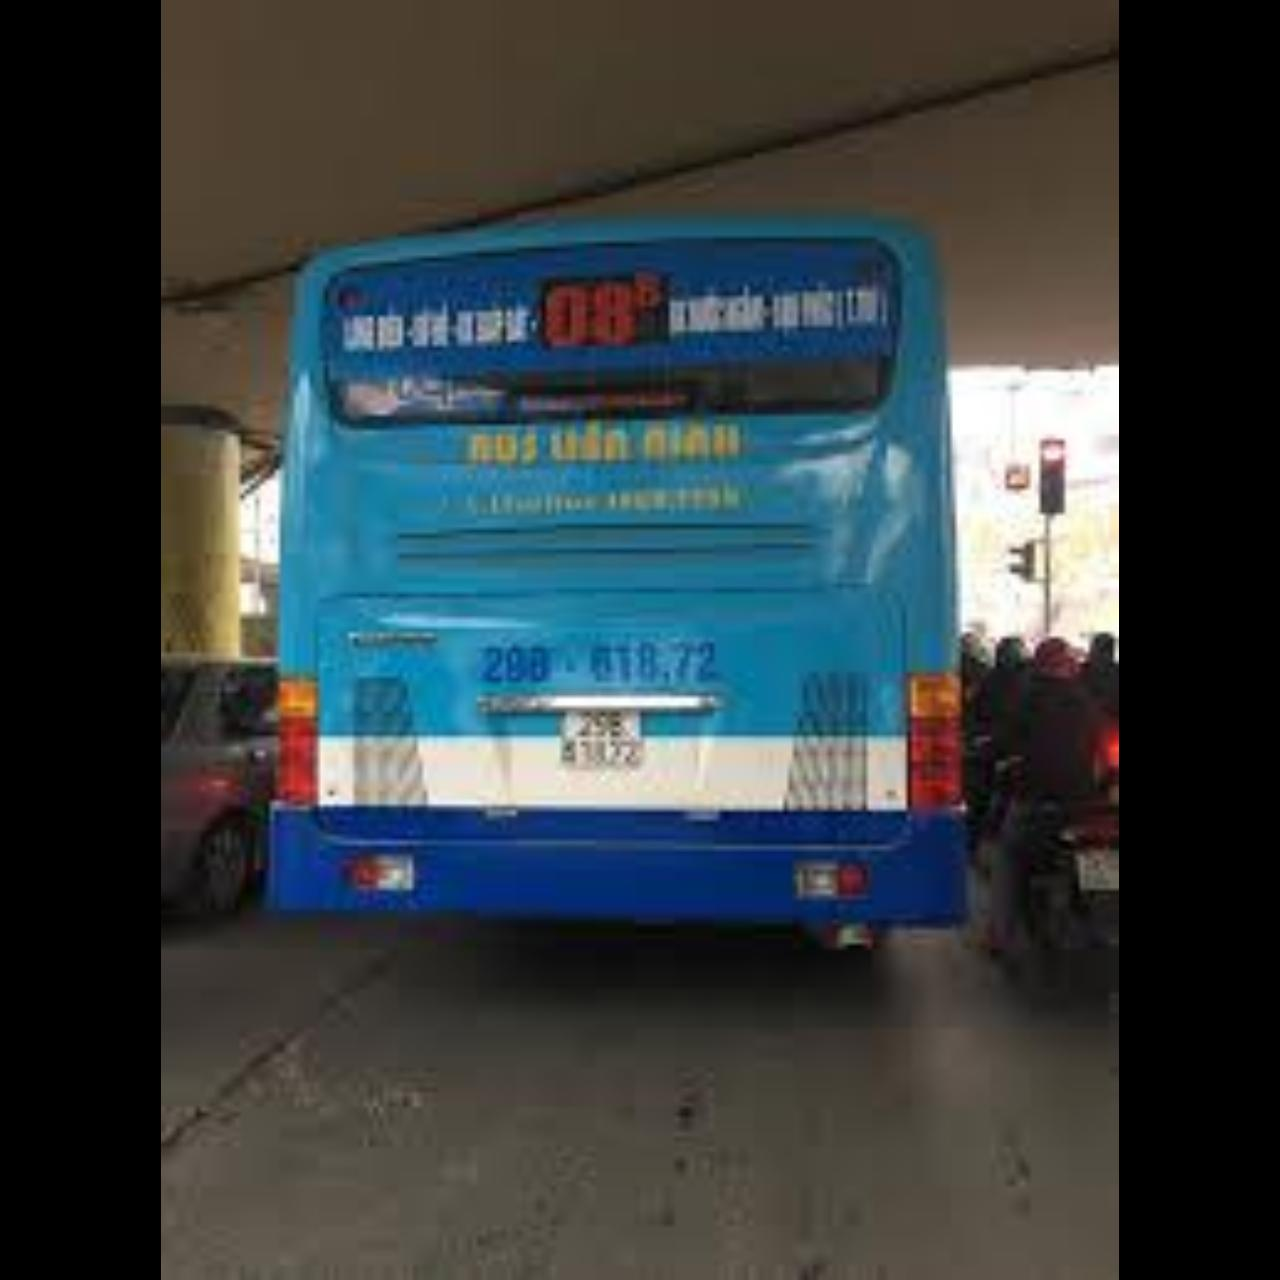bienso: (559, 710, 643, 769)
